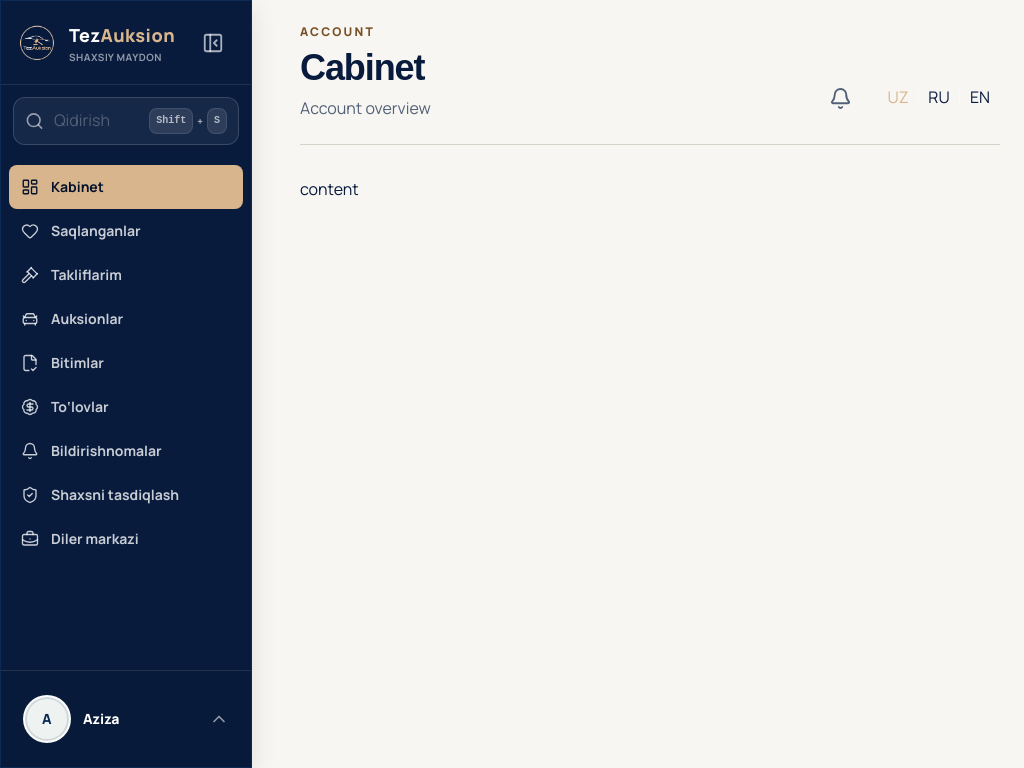
Test: AppShell › collapses the dashboard sidebar to icons and expands it from the account avatar
The image size is (1024, 768).
Click the button named "Menyuni yopish" at (213, 42), box [191, 20, 235, 64]
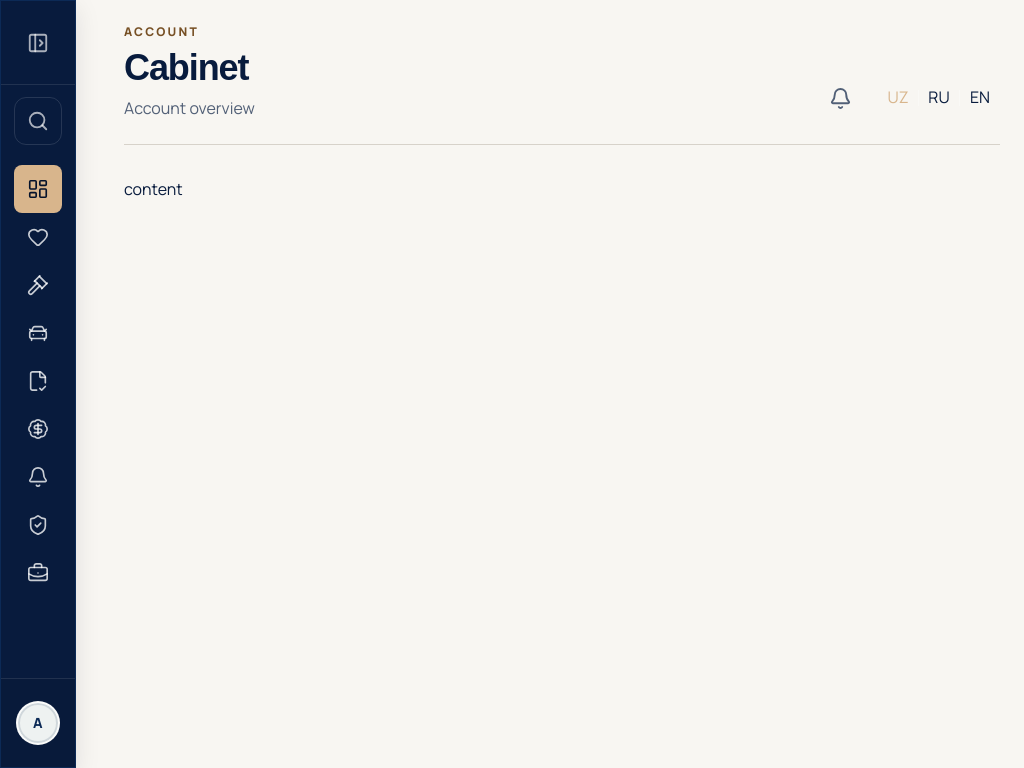
Check: the button named "Menyuni ochish" is shown, box [16, 20, 60, 64]
Click the button named "Menu bo‘limlarini qidirish" at (38, 121), box [14, 97, 62, 145]
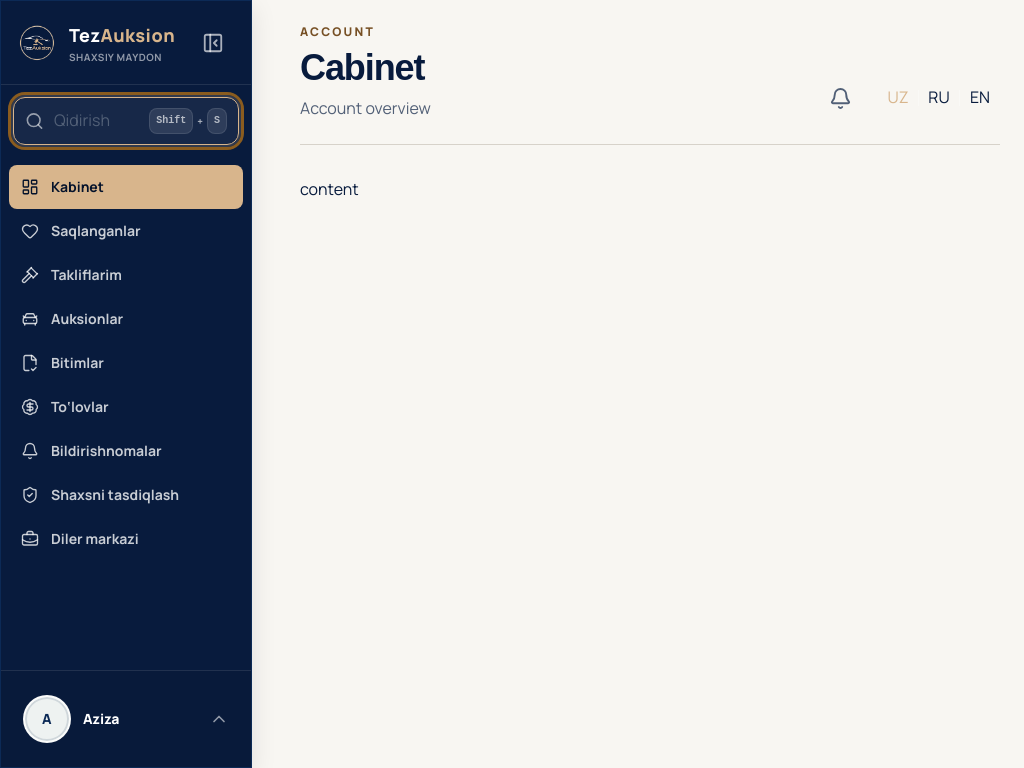
Check: the button named "Menyuni yopish" is shown
Click the button named "Menyuni yopish" at (213, 42), box [191, 20, 235, 64]
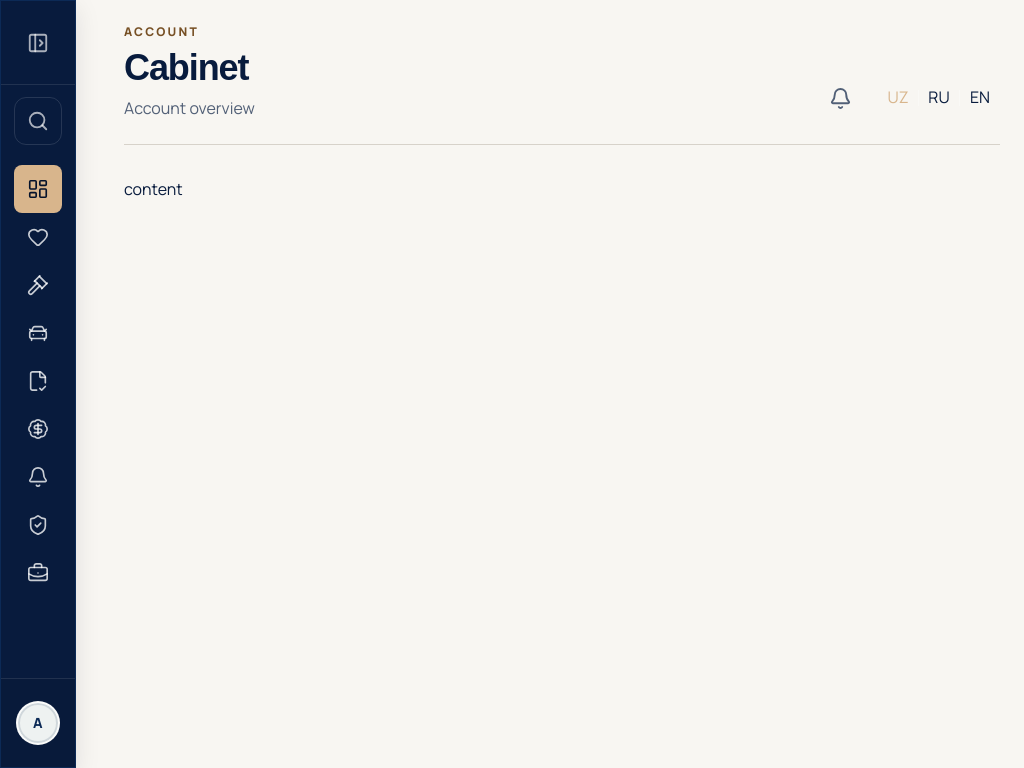
Click the button named "Aziza: Mening profilim" at (38, 723), box [9, 687, 67, 759]
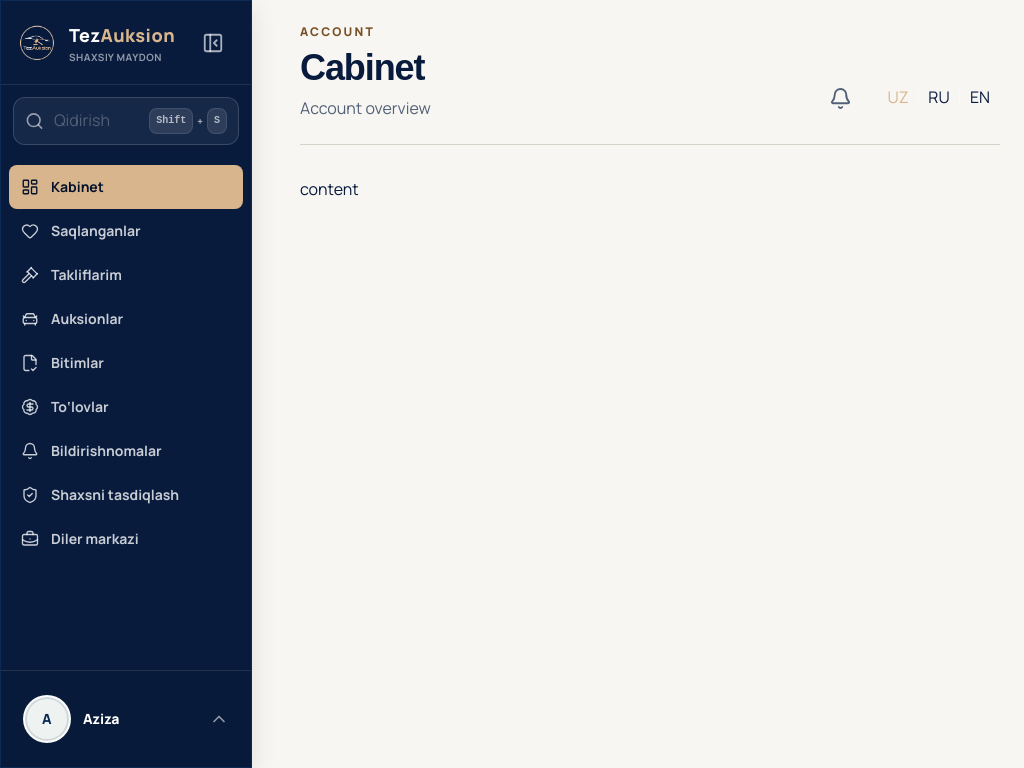
Check: the button named "Menyuni yopish" is shown, box [191, 20, 235, 64]
